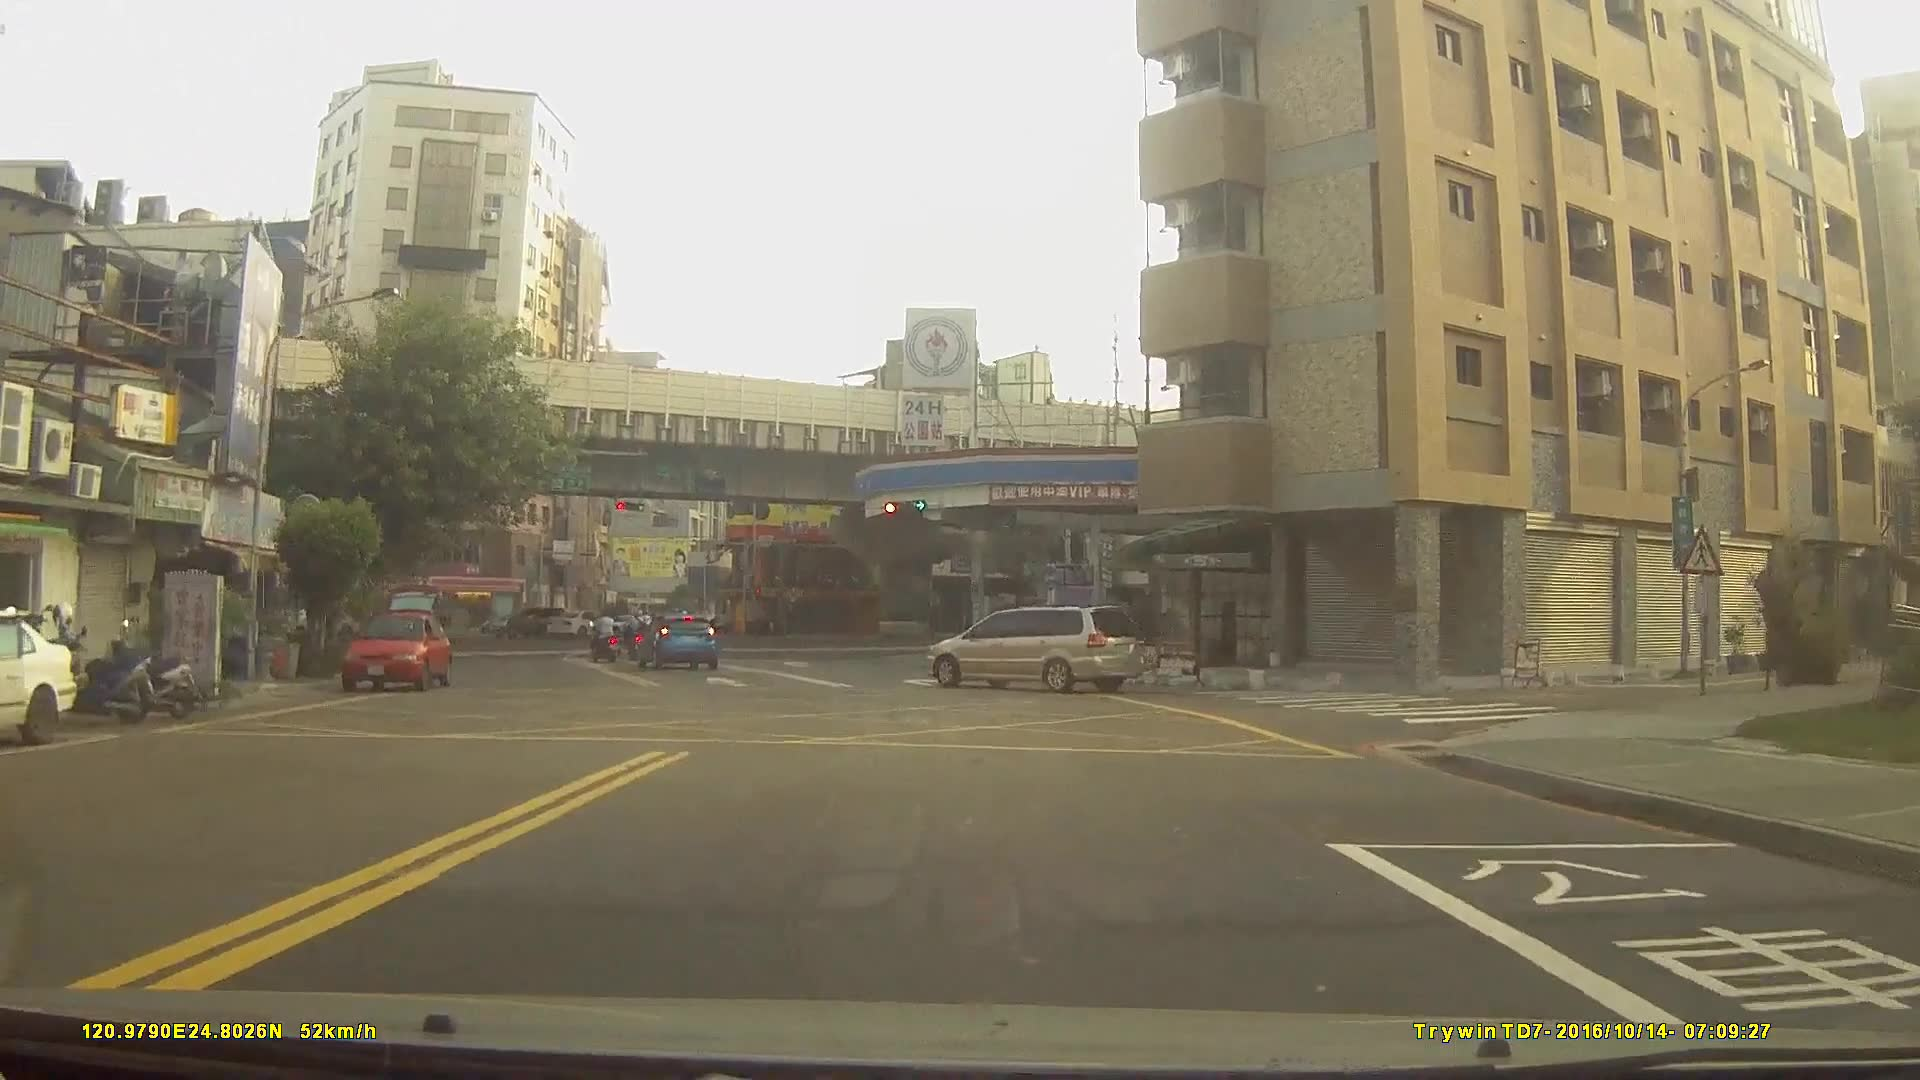rider: (589, 612, 621, 665)
vehicle: (924, 604, 1144, 692), (0, 609, 76, 746), (338, 609, 454, 690), (629, 613, 716, 670), (484, 607, 565, 640), (543, 609, 619, 639)
